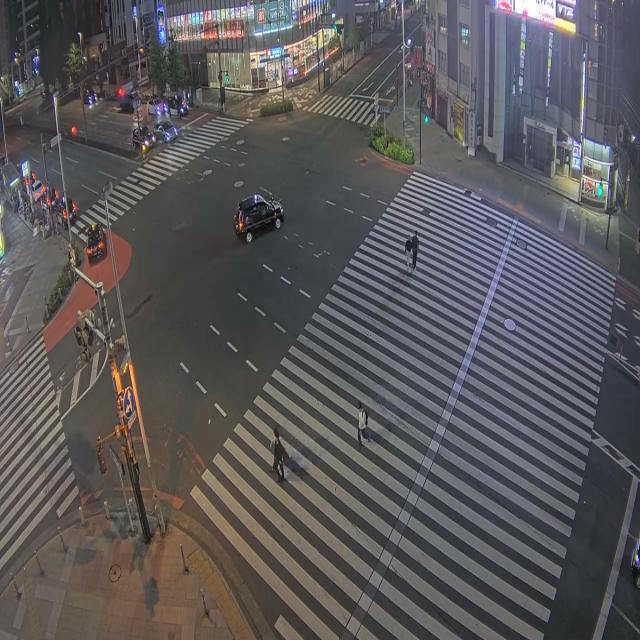car: (234, 194, 283, 242), (52, 190, 77, 227), (86, 224, 105, 262), (132, 126, 156, 151), (153, 120, 177, 142), (167, 95, 188, 117), (147, 98, 167, 117), (82, 88, 98, 106), (55, 203, 67, 227), (32, 181, 45, 201), (117, 103, 134, 113)
